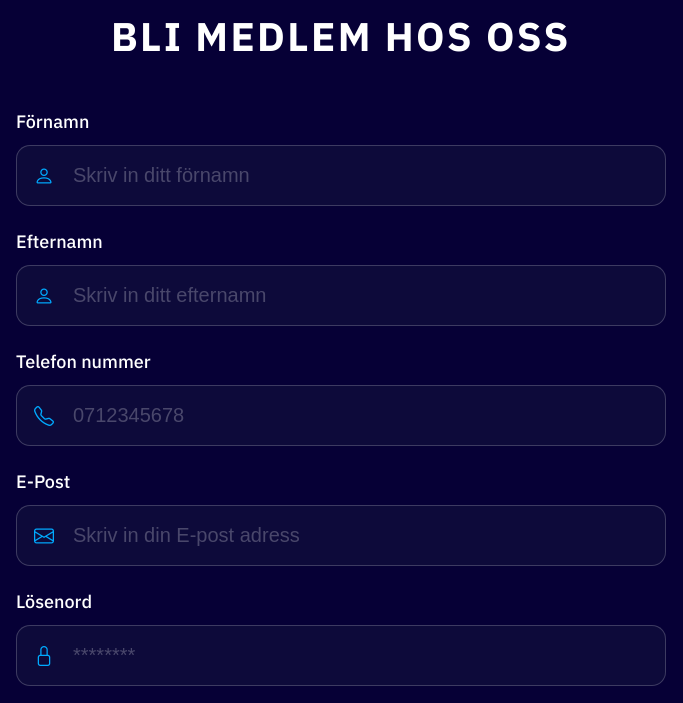
Test: RegistrationPage › shows validation error when passwords do not match
The image size is (683, 703).
Type "password123" into the 1st password field with placeholder "********".
click(341, 656); type("password123")  # box [16,625,666,686]
(page scrolled)
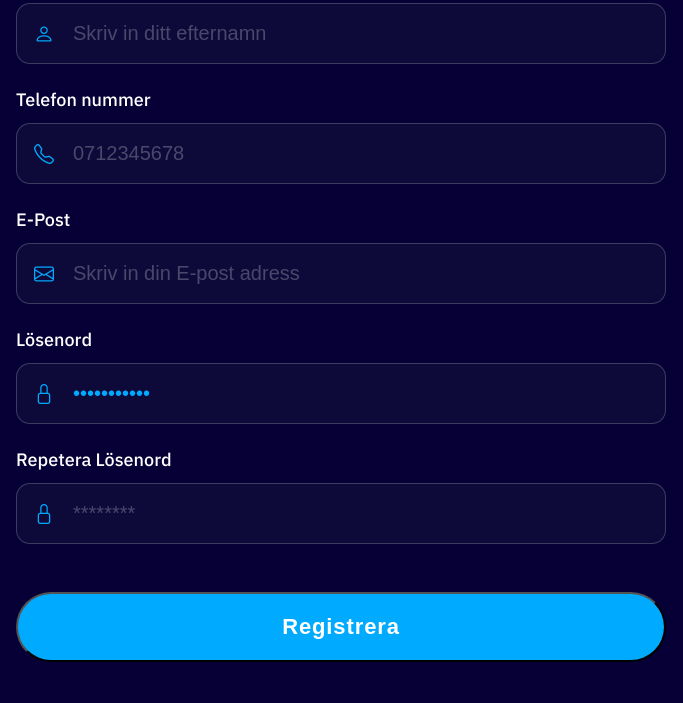
Type "different123" into the password field with placeholder "********".
click(341, 514); type("different123")  # box [16,483,666,544]
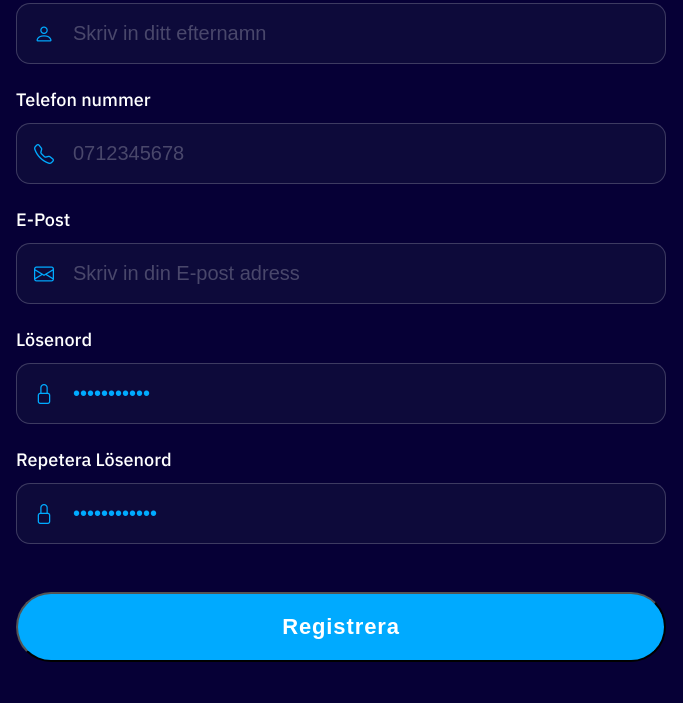
Leave the password field with placeholder "********" below "Repetera Lösenord", box [16,483,666,544]
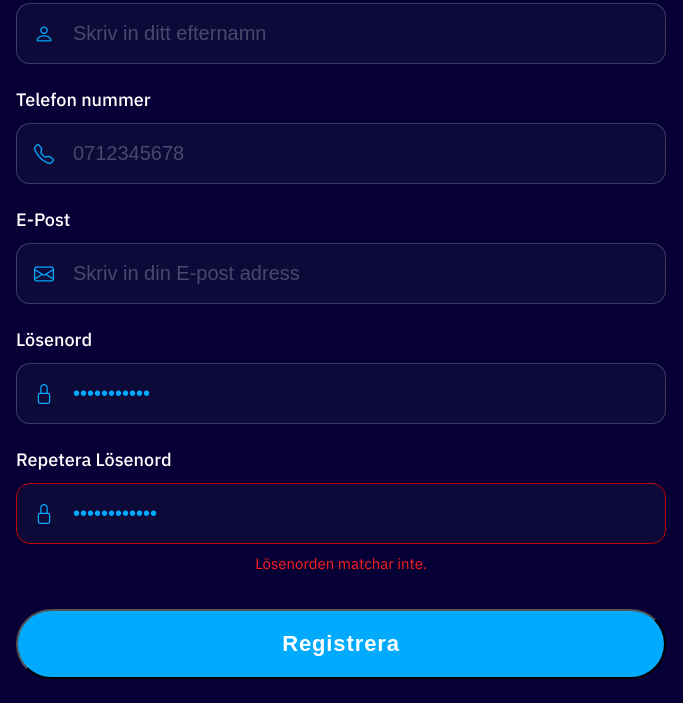
expect the text "Lösenorden matchar inte." is shown: met, box [255,554,427,573]
